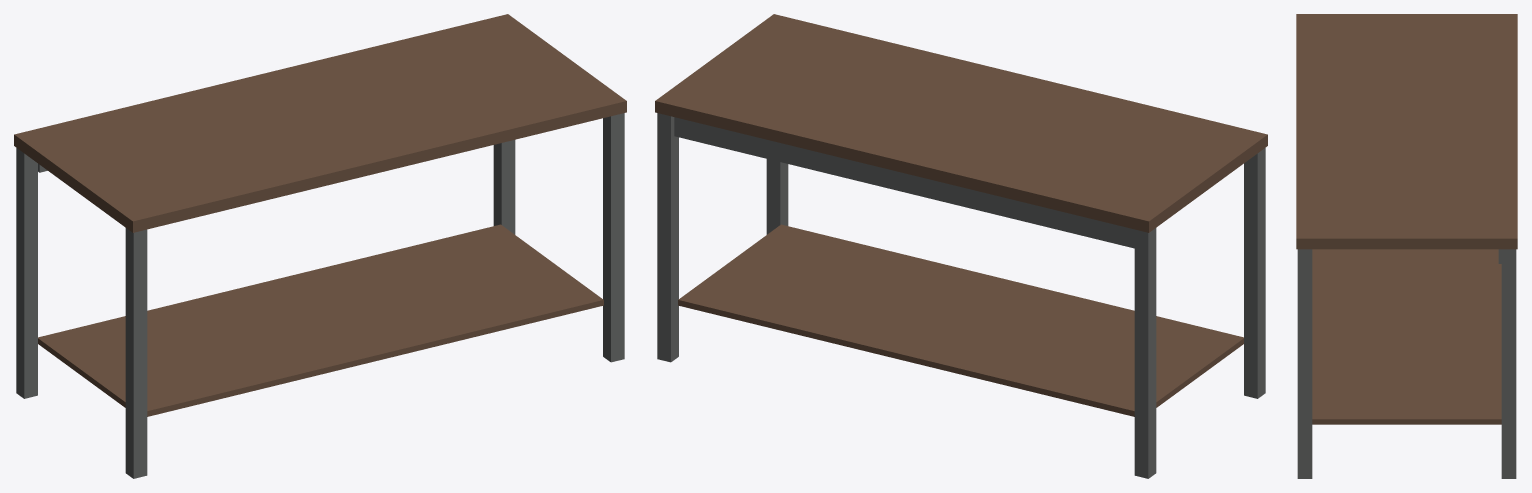
The model's file is dj-table.glb.
3 renders of one model, left to right at view 1: azimuth 30°, elevation 25°; view 2: azimuth 150°, elevation 25°; view 3: azimuth 270°, elevation 25°, orthographic. The views are drawn at different scales.
Parts seen in each view (by area): view 1: wood, metal; view 2: wood, metal; view 3: wood, metal.
Part boxes in pixels (x1,y1,x2,y2): wood: (14, 14, 626, 416); metal: (16, 113, 624, 478); wood: (655, 14, 1267, 416); metal: (657, 113, 1265, 478); wood: (1296, 14, 1517, 424); metal: (1297, 249, 1516, 478).
Size of the model in its own units: 1.8 by 0.9 by 0.75.
